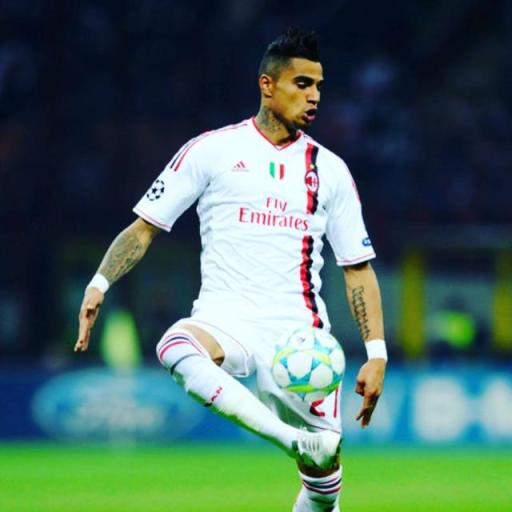Adidas: (230, 158, 250, 176)
Emirates: (238, 194, 309, 232)
